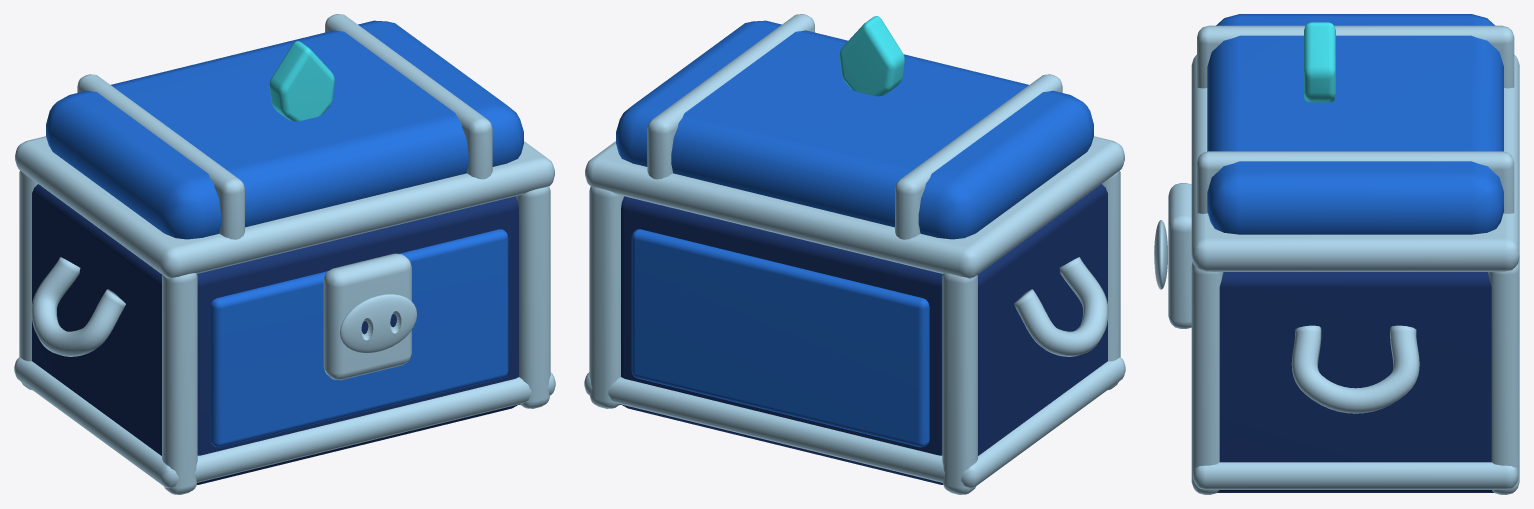
Rendered from rare.glb.
3 views of the same model, side by side, from view 1: azimuth 30°, elevation 25°; view 2: azimuth 150°, elevation 25°; view 3: azimuth 270°, elevation 25° (orthographic). The views are drawn at different scales.
Visible parts, largest first — view 1: Body, Lid; view 2: Body, Lid; view 3: Lid, Body.
Boxes of the visible parts, left/top/right/bottom form: Body: left=14, top=170, right=555, bottom=494; Lid: left=15, top=14, right=554, bottom=278; Body: left=584, top=170, right=1125, bottom=494; Lid: left=585, top=14, right=1124, bottom=278; Lid: left=1191, top=14, right=1519, bottom=271; Body: left=1154, top=183, right=1519, bottom=494.
Bounding box in the file's own units: 4.35 × 3.16 × 2.76.
Materials: 2 (2 with a texture image).
